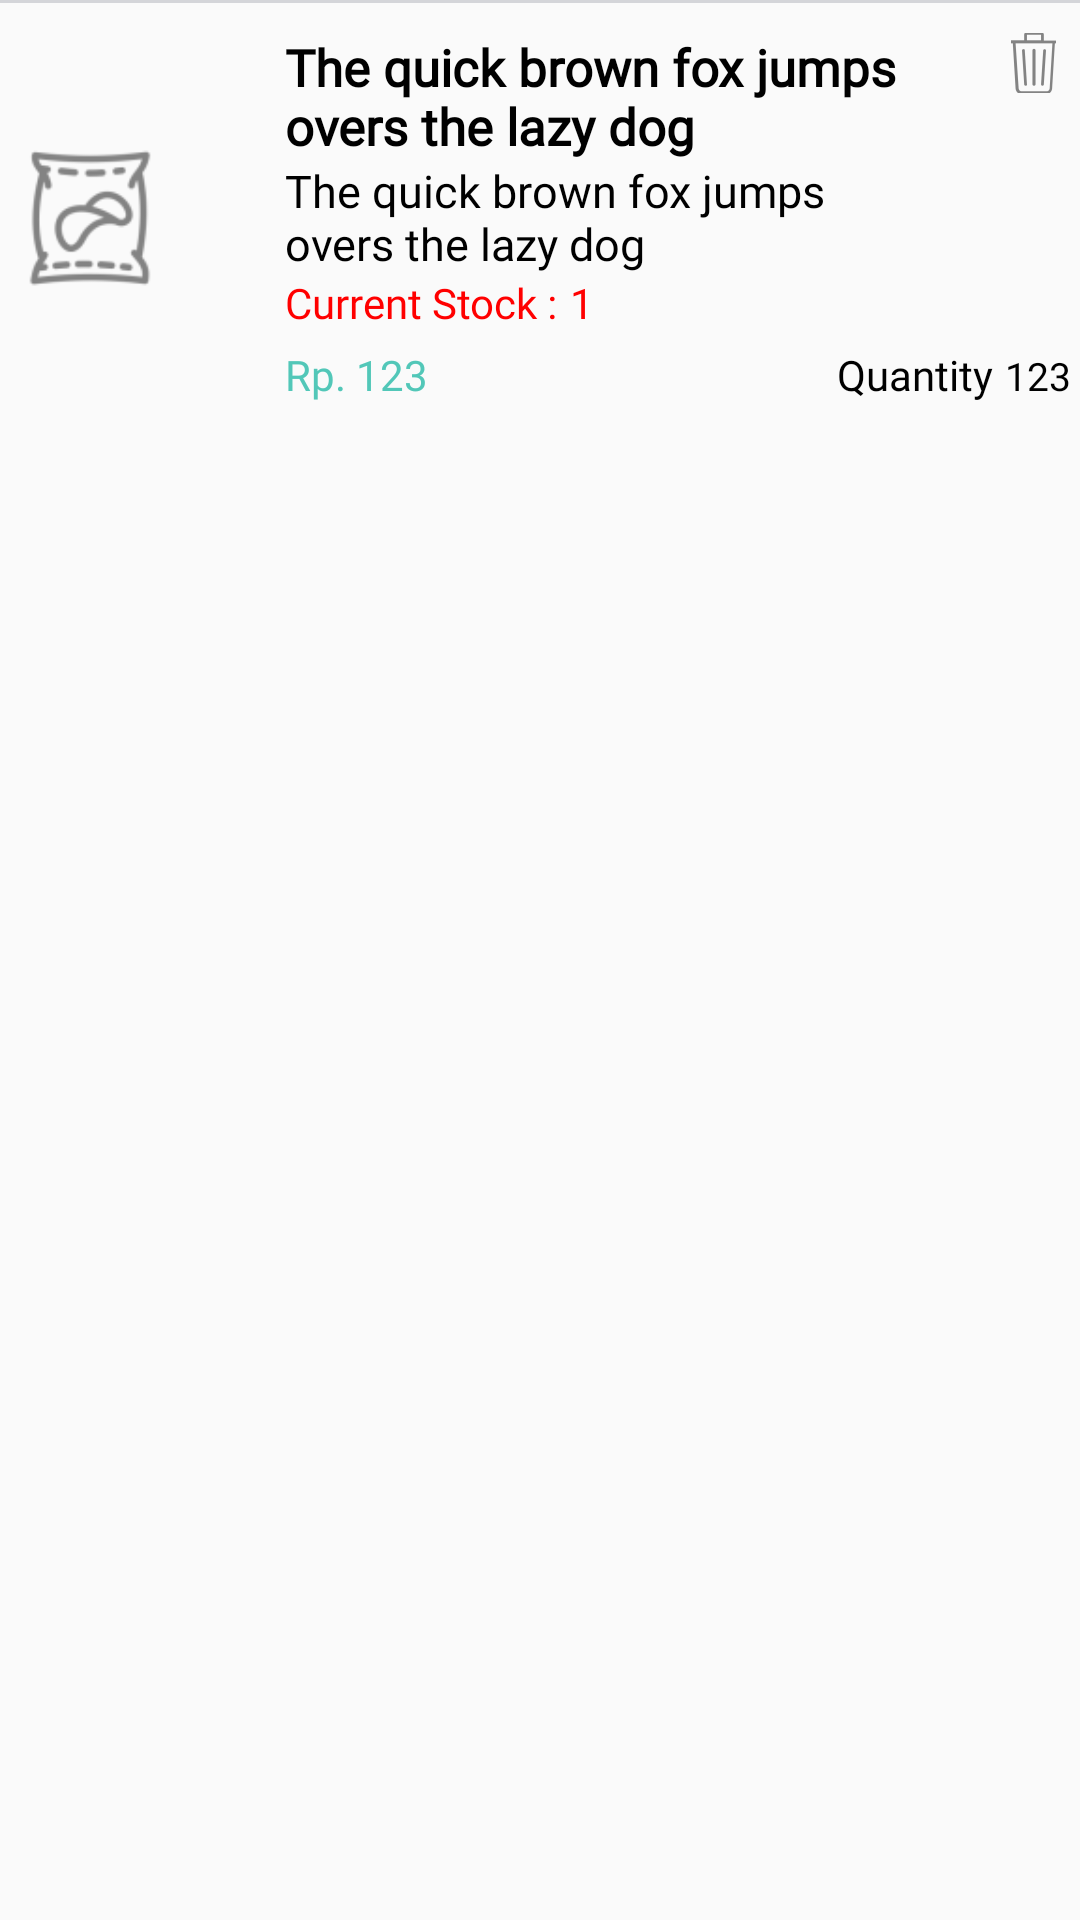

Icon bounding boxes for this 1080×1920 phone screenshot, format (x1=x1, y1=y1, x2=x2, y2=y2):
snack: (x1=30, y1=151, x2=150, y2=285)
trash: (x1=1011, y1=33, x2=1056, y2=93)
